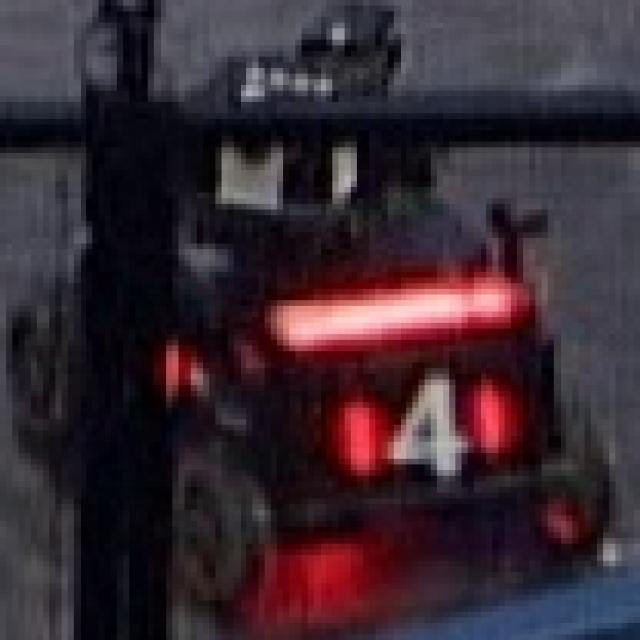R4: (332, 368, 517, 476)
